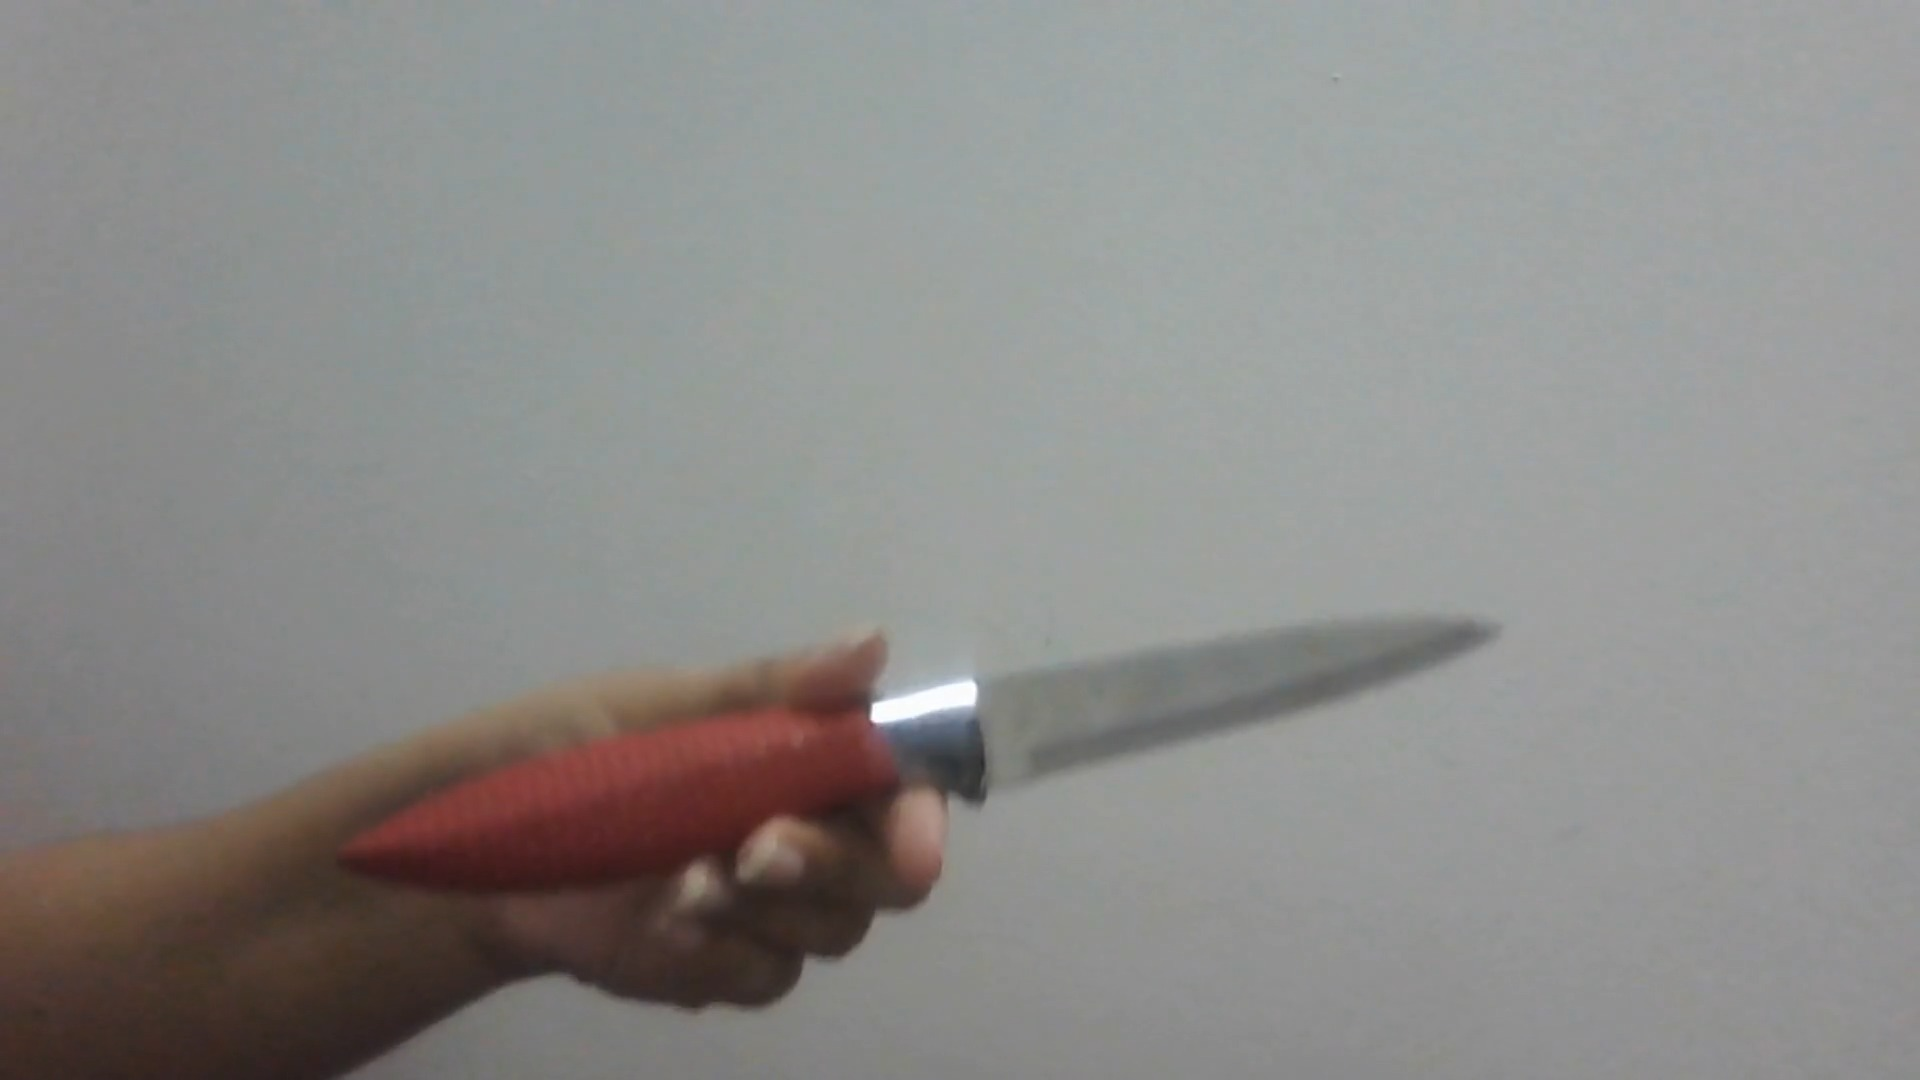Knives: (310, 549, 1594, 957)
